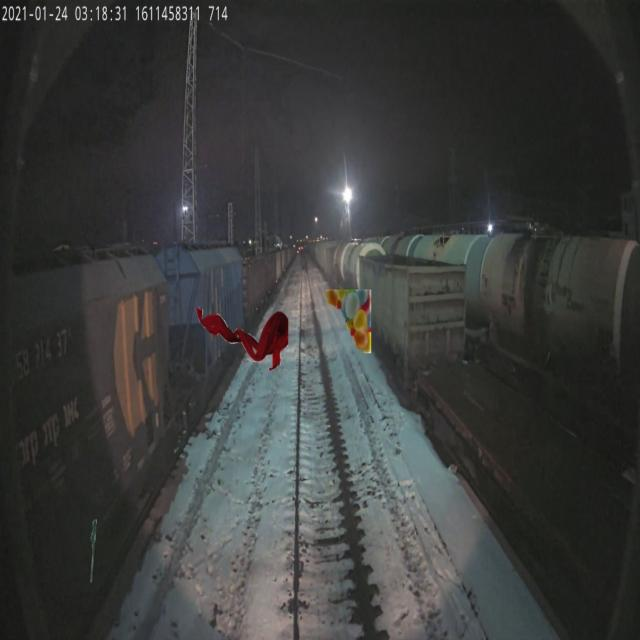floating object: (195, 306, 288, 371), (325, 289, 371, 353), (89, 518, 97, 582)
